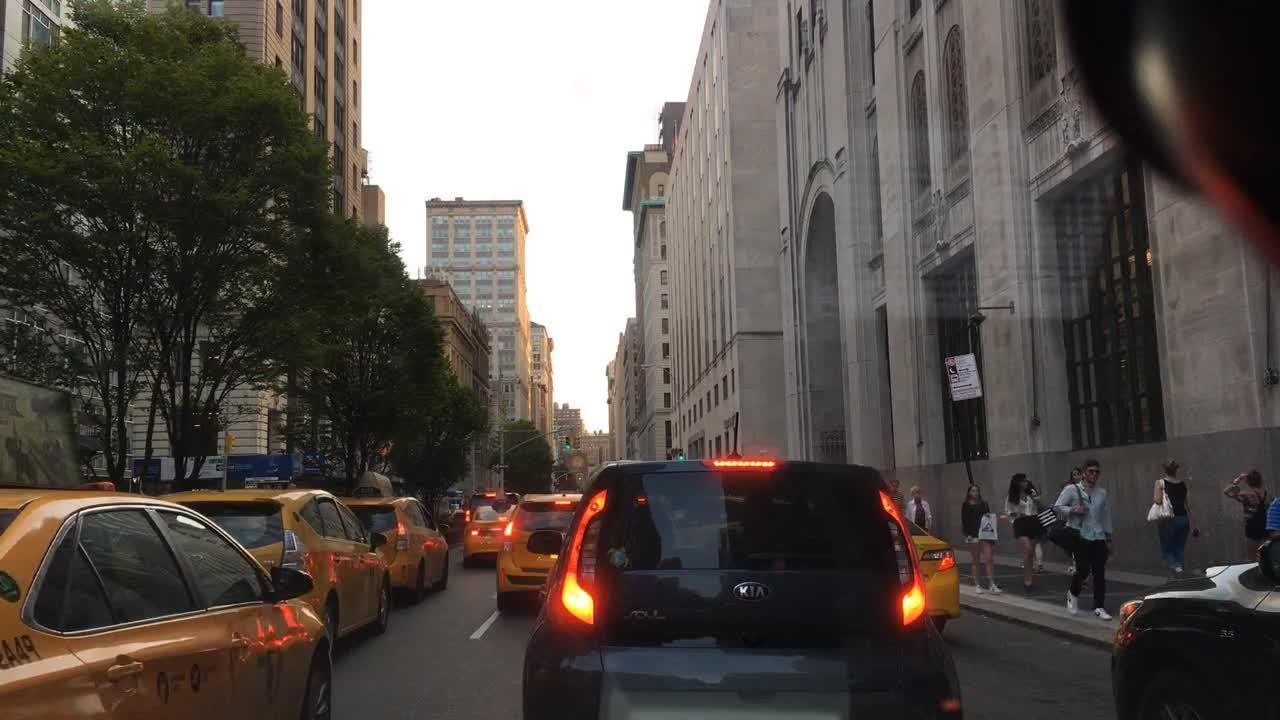kia: (726, 574, 782, 604)
